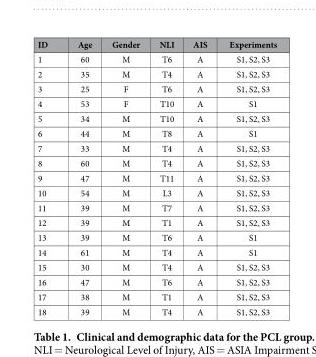table: (36, 37, 276, 317)
table column: (217, 37, 276, 317), (101, 37, 148, 317), (62, 37, 101, 317), (182, 37, 217, 317), (148, 37, 182, 317), (36, 37, 62, 317)
table column header: (36, 37, 276, 51)
table row: (36, 51, 276, 66), (36, 66, 276, 81), (36, 95, 276, 110), (36, 110, 276, 125), (36, 125, 276, 140), (36, 140, 276, 155), (36, 155, 276, 170), (36, 170, 276, 185), (36, 199, 276, 214), (36, 214, 276, 229), (36, 229, 276, 244), (36, 244, 276, 259), (36, 259, 276, 274), (36, 274, 276, 289), (36, 37, 276, 51), (36, 81, 276, 95), (36, 185, 276, 199), (36, 289, 276, 303), (36, 303, 276, 317)
